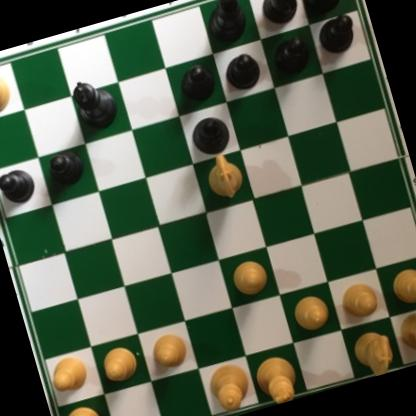black-bishop: (196, 0, 251, 50), (187, 112, 235, 160)
black-king: (66, 75, 121, 136)
black-knight: (254, 0, 305, 31)
black-pawn: (312, 9, 361, 59), (266, 33, 314, 81), (174, 62, 221, 110), (220, 49, 265, 95), (43, 146, 87, 192), (0, 164, 39, 210)
black-rook: (293, 0, 354, 18)
white-bishop: (0, 61, 18, 122)
white-king: (249, 349, 304, 409)
white-knight: (202, 148, 250, 207), (350, 326, 398, 380)
white-pawn: (46, 346, 92, 398), (95, 341, 143, 389), (334, 276, 382, 324), (145, 328, 193, 374), (227, 254, 272, 301), (287, 291, 334, 336), (385, 263, 416, 313)
white-queen: (201, 359, 255, 416)
white-rook: (391, 302, 416, 363), (52, 401, 111, 416)
